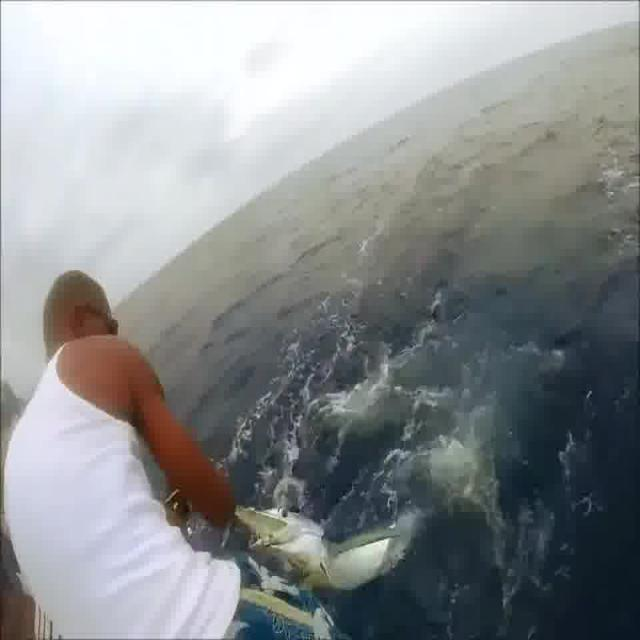White Marlin: (231, 498, 422, 628)
